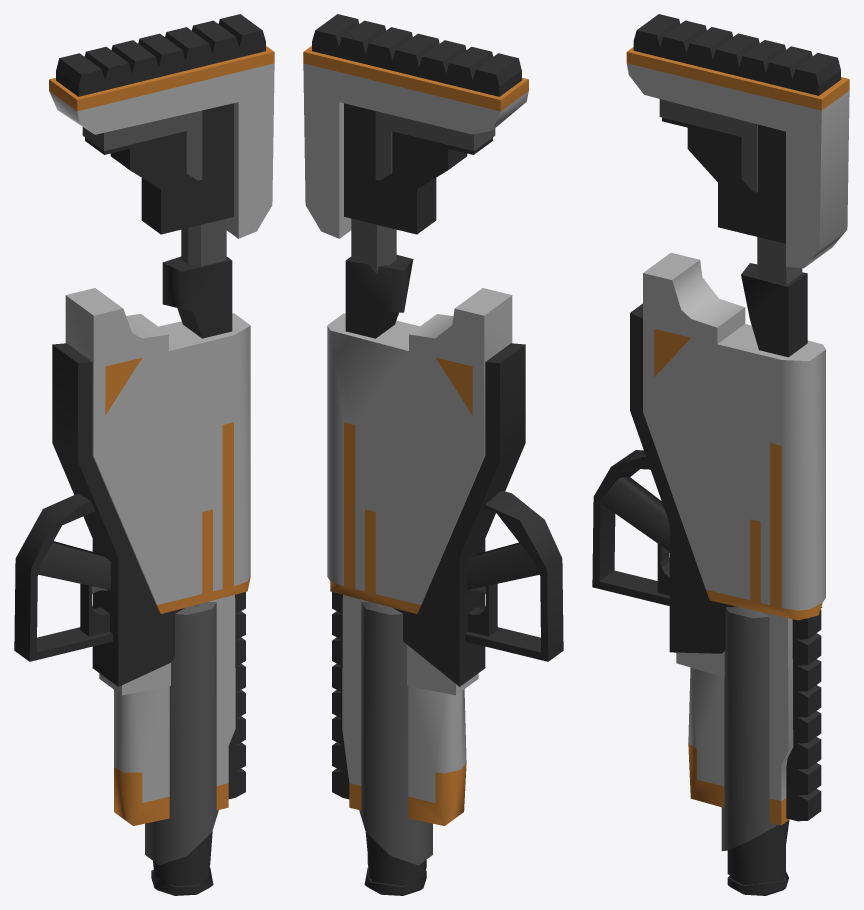
Rendered from qg-grenade-2-lod2.glb.
3 views of the same model, side by side, from view 1: azimuth 30°, elevation 25°; view 2: azimuth 150°, elevation 25°; view 3: azimuth 330°, elevation 25° (orthographic).
Visible parts, largest first — view 1: WeaponMesh_qg-grenade-2_Grenade_1; view 2: WeaponMesh_qg-grenade-2_Grenade_1; view 3: WeaponMesh_qg-grenade-2_Grenade_1.
Boxes of the visible parts, left/top/right/bottom form: WeaponMesh_qg-grenade-2_Grenade_1: left=14, top=14, right=274, bottom=895; WeaponMesh_qg-grenade-2_Grenade_1: left=303, top=14, right=563, bottom=895; WeaponMesh_qg-grenade-2_Grenade_1: left=592, top=14, right=849, bottom=895.
Bounding box in the file's own units: 0.124 × 0.42 × 0.0313.
